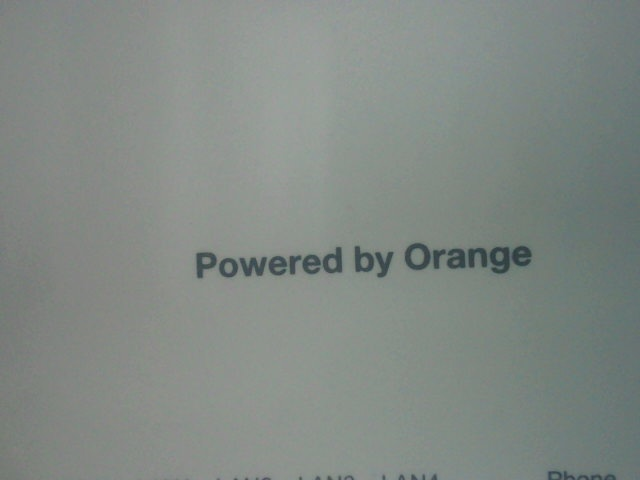AS_PowerByOrange: (170, 213, 547, 300)
